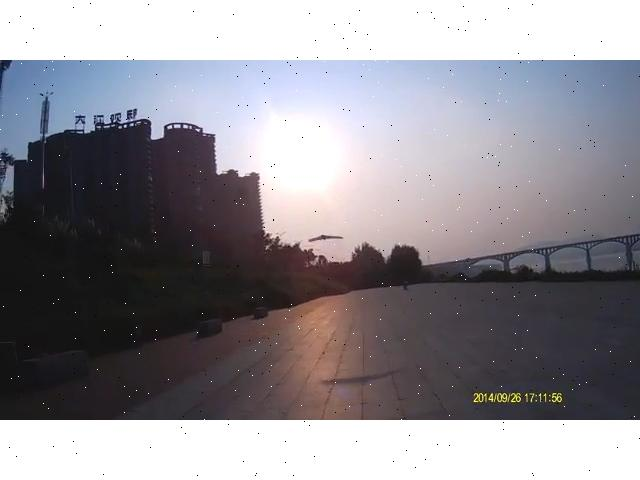Anti-Drone: (300, 218, 352, 253)
